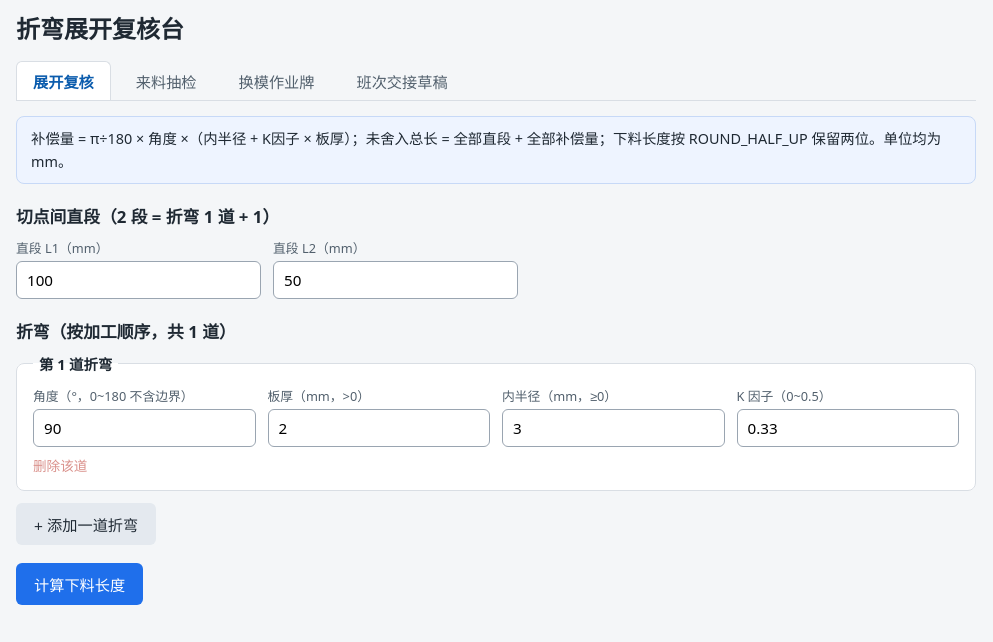
Test: 换模作业牌视图 › 412 同版竞争失败：显示胜出持有人与冲突原因，并保留自己的填写内容
The width and height of the screenshot is (993, 642).
Click the tab "换模作业牌" at coordinates (276, 81), box [222,61,331,100]
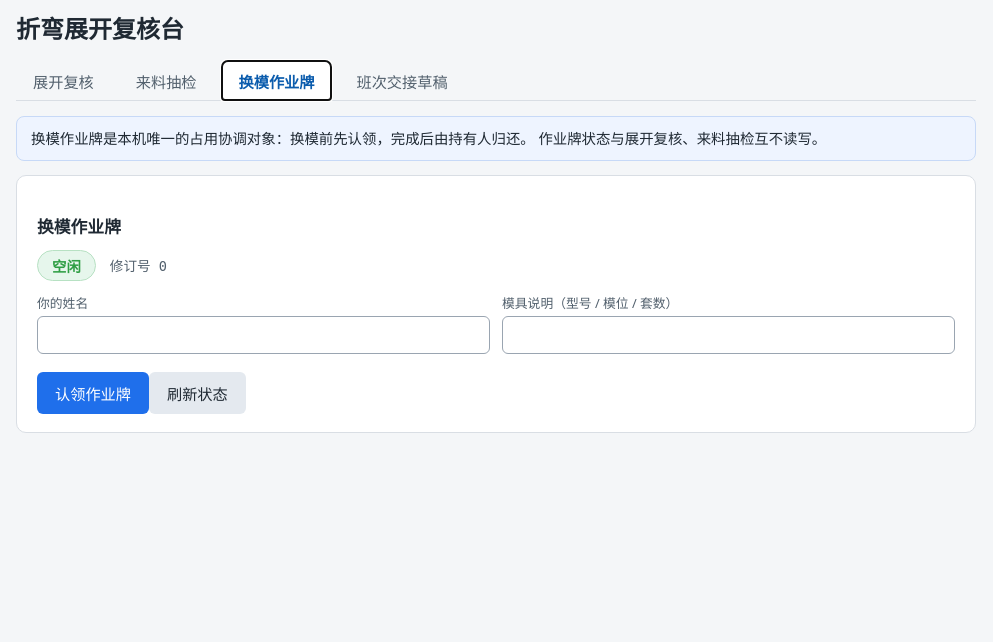
Result: the text "空闲" is shown at [37,250,96,281]
Type "李四" into the field labelled "你的姓名" at coordinates (264, 335), box [37,316,490,354]
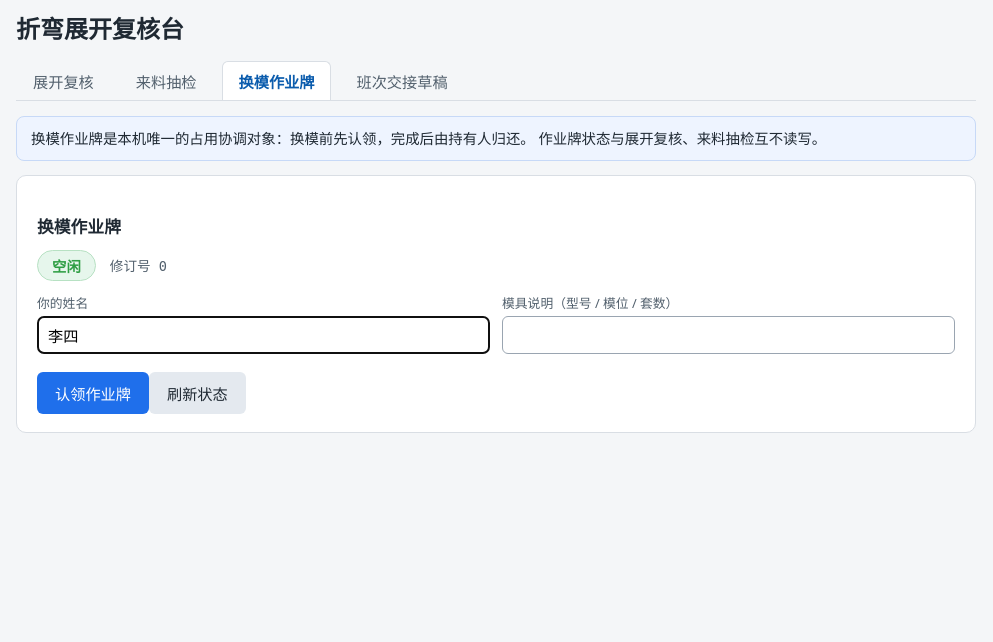
Type "W 模一套" into the field labelled "模具说明（型号 / 模位 / 套数）" at coordinates (728, 335), box [502,316,955,354]
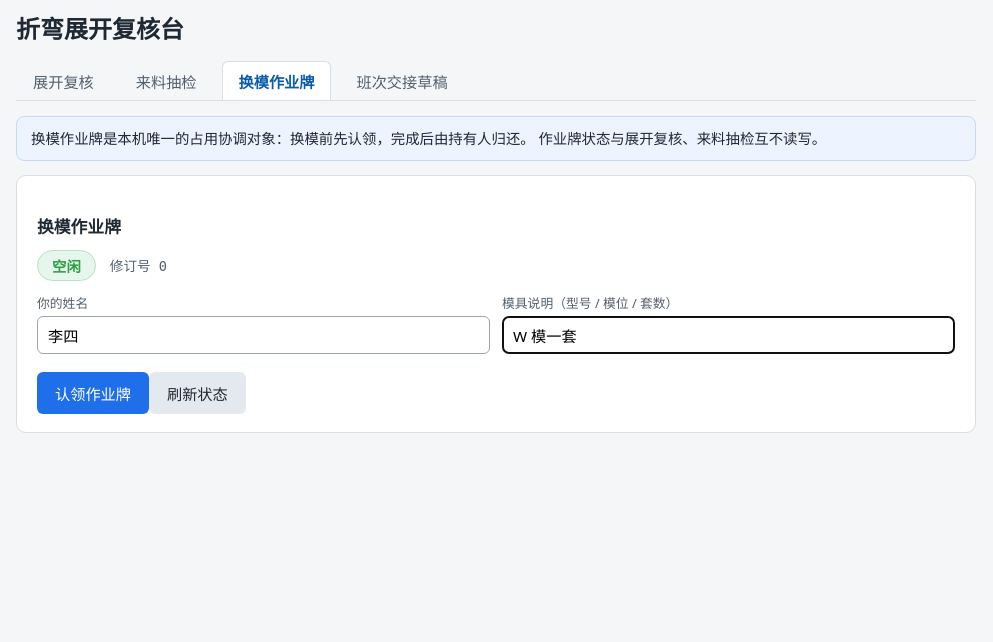
Click the button with test id "board-claim" at coordinates (93, 393), box [37,372,149,414]
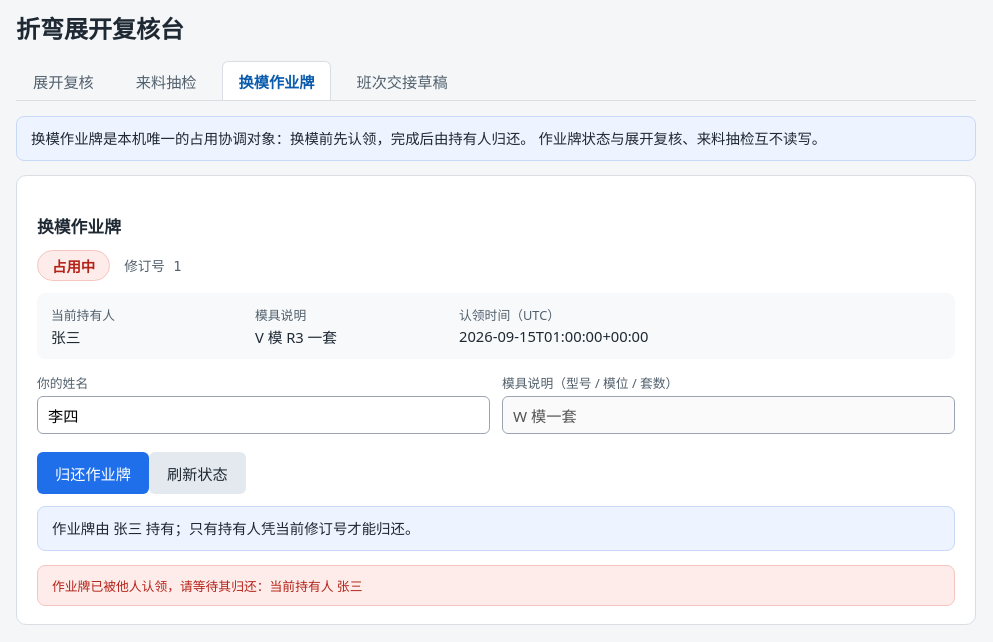
Result: the text with test id "board-current-holder" reads "张三" at [51,327,80,347]
Result: the text with test id "board-state" reads "占用中" at [52,257,95,276]
Result: the message with test id "board-conflict" shows "张三" at [52,577,362,595]
